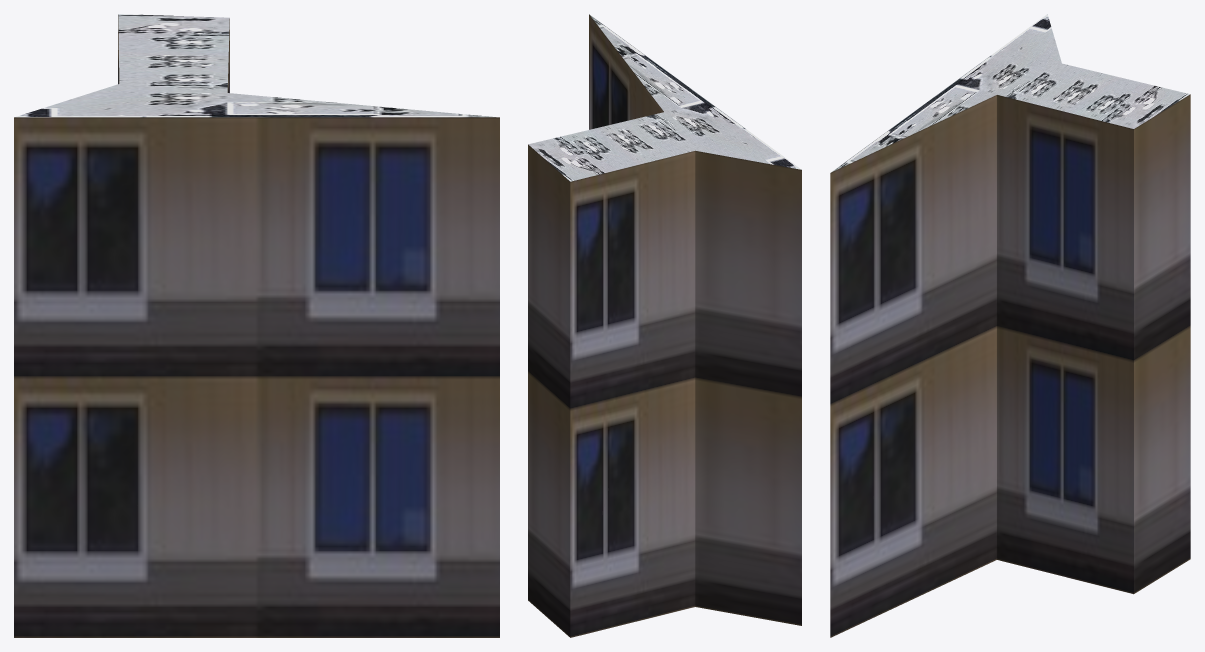
The model's file is ResTex__770.fbx.
The picture shows the model from 3 angles, left to right: view 1: azimuth 30°, elevation 25°; view 2: azimuth 150°, elevation 25°; view 3: azimuth 270°, elevation 25°; orthographic projection. The views are drawn at different scales.
Visible parts, largest first — view 1: CityEngineMaterial_5_m, CityEngineMaterial_8_m; view 2: CityEngineMaterial_5_m, CityEngineMaterial_8_m; view 3: CityEngineMaterial_5_m, CityEngineMaterial_8_m.
Part boxes in pixels (x1,y1,x2,y2): CityEngineMaterial_5_m: [14, 15, 499, 637]; CityEngineMaterial_8_m: [15, 14, 495, 117]; CityEngineMaterial_5_m: [528, 14, 801, 637]; CityEngineMaterial_8_m: [528, 14, 801, 181]; CityEngineMaterial_5_m: [830, 94, 1190, 637]; CityEngineMaterial_8_m: [831, 14, 1189, 172].
Bounding box in the file's own units: 4.4 × 6 × 4.21.
2 materials, 2 textured.
